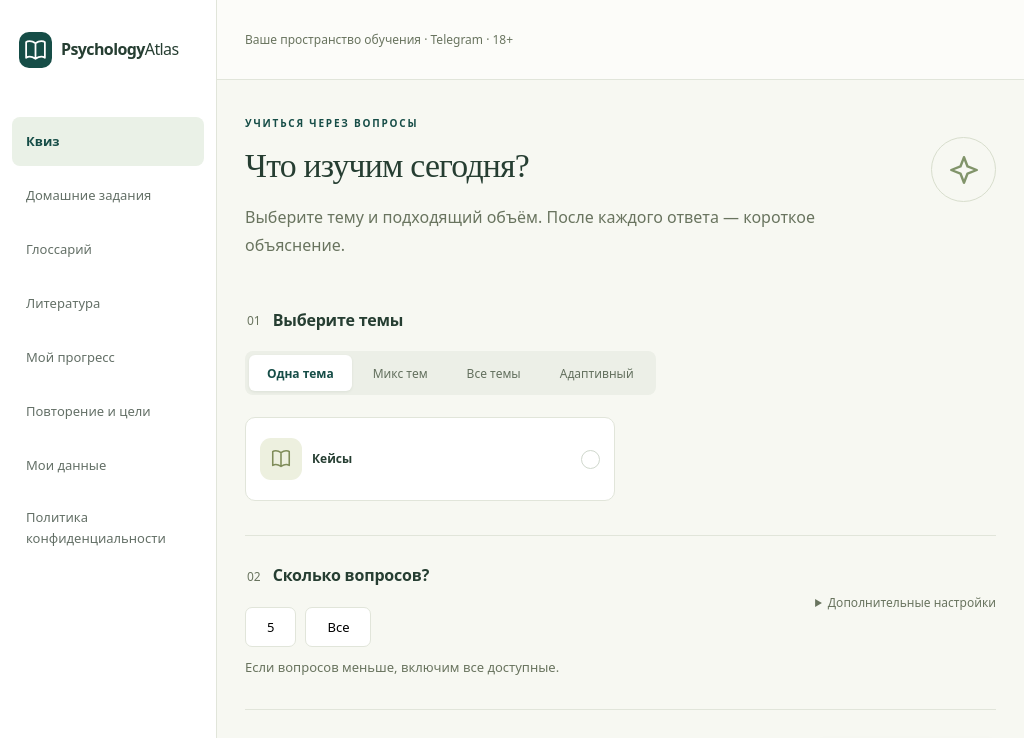
Scenario: verified Telegram actor can open review, glossary and literature without PWA e-mail
This screenshot has width=1024, height=738.
Expected: the heading "Что изучим сегодня?" is shown, [245,147,529,184]
Click the button "Повторение и цели": (108, 412) [12,387,204,436]
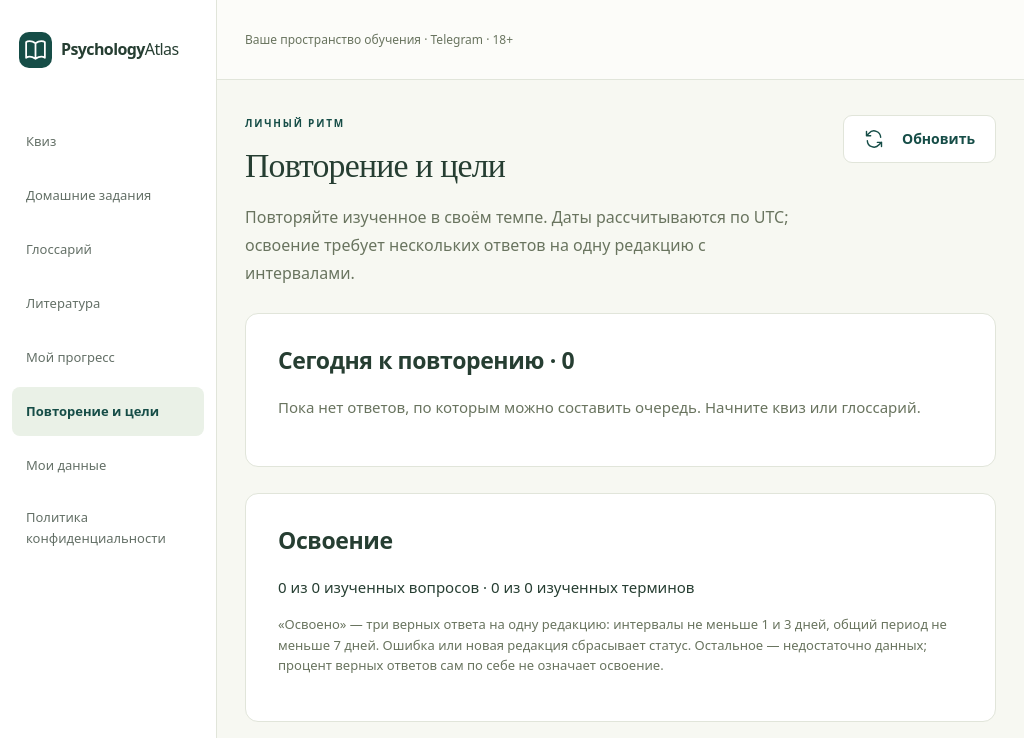
Now the heading "Повторение и цели" is shown, box [245,146,505,186]
Now the text "Пока нет ответов" is shown, box [278,397,921,417]
Click the button "Глоссарий": (108, 250) [12,225,204,274]
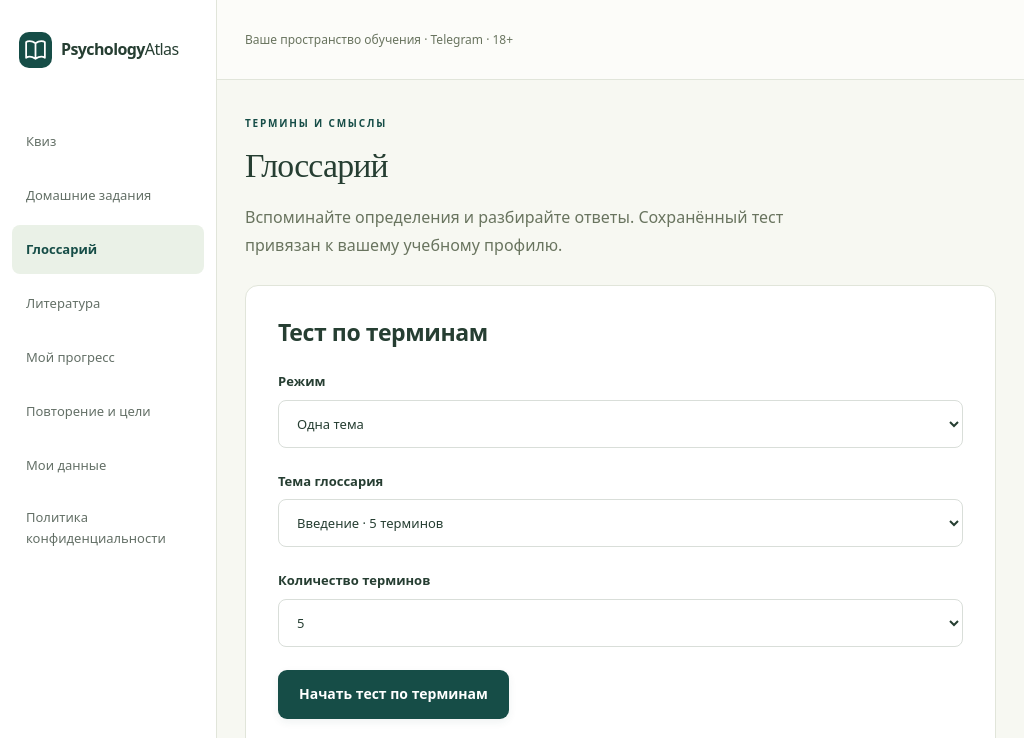
Now the heading "Глоссарий" is shown, box [245,147,388,184]
Click the button "Литература": (108, 304) [12,279,204,328]
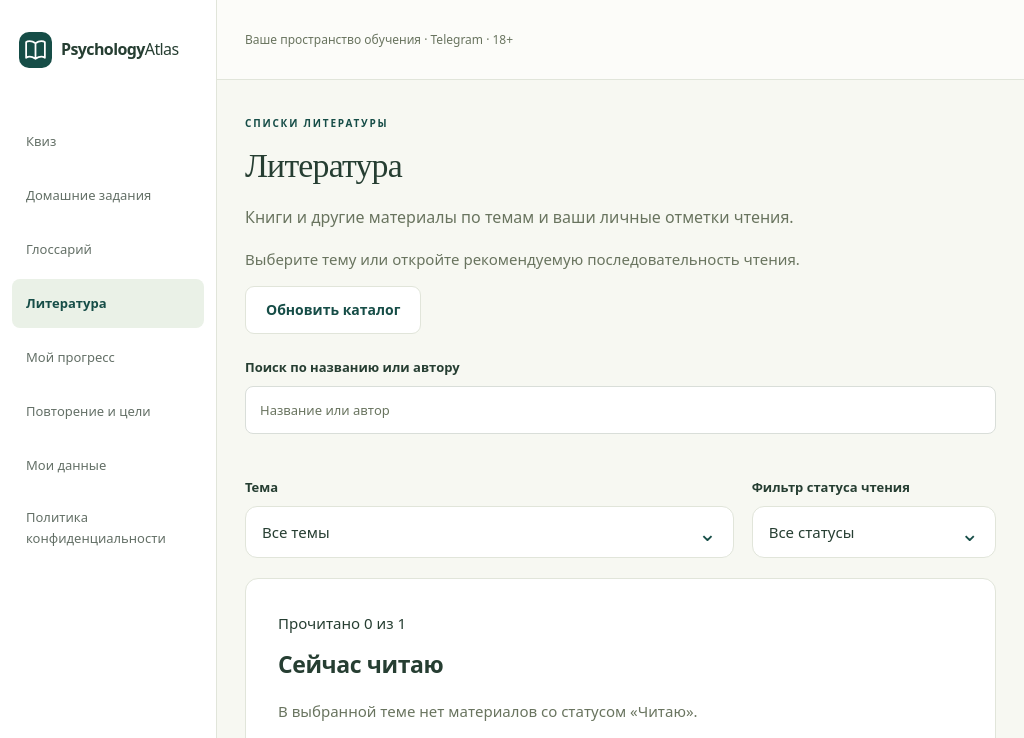
Now the heading "Литература" is shown, box [245,147,402,184]
Click the button "Мой прогресс": (108, 358) [12,333,204,382]
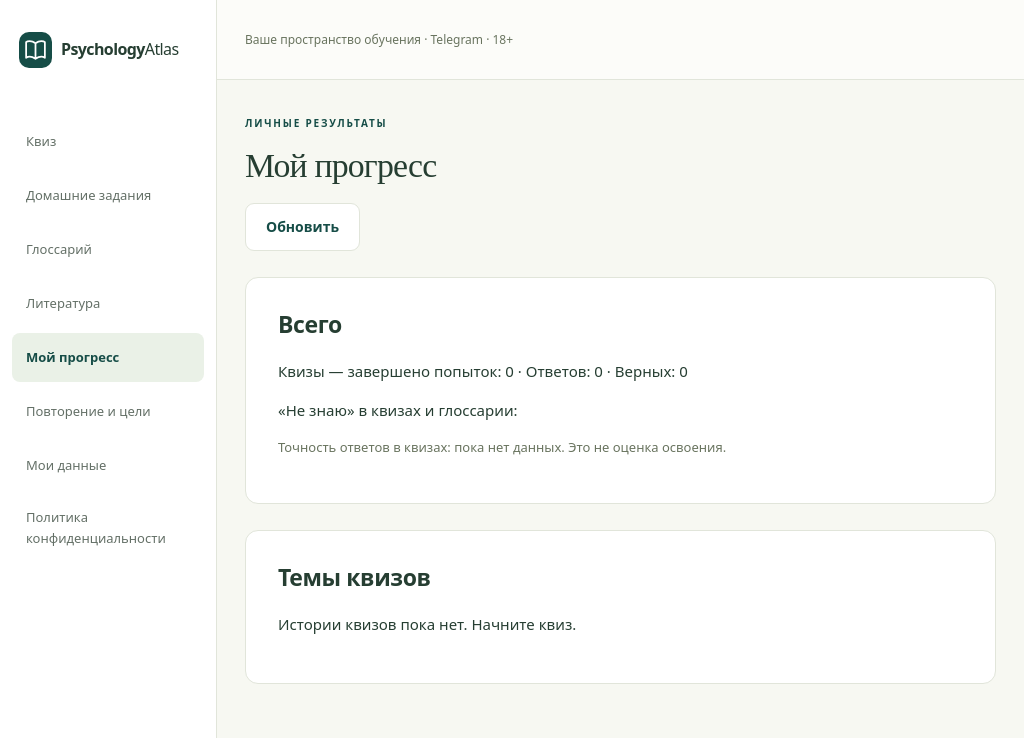
Now the heading "Мой прогресс" is shown, box [245,147,436,184]
Now the text "Истории квизов пока нет. Начните квиз." is shown, box [278,614,576,634]
Click the button "Литература": (108, 304) [12,279,204,328]
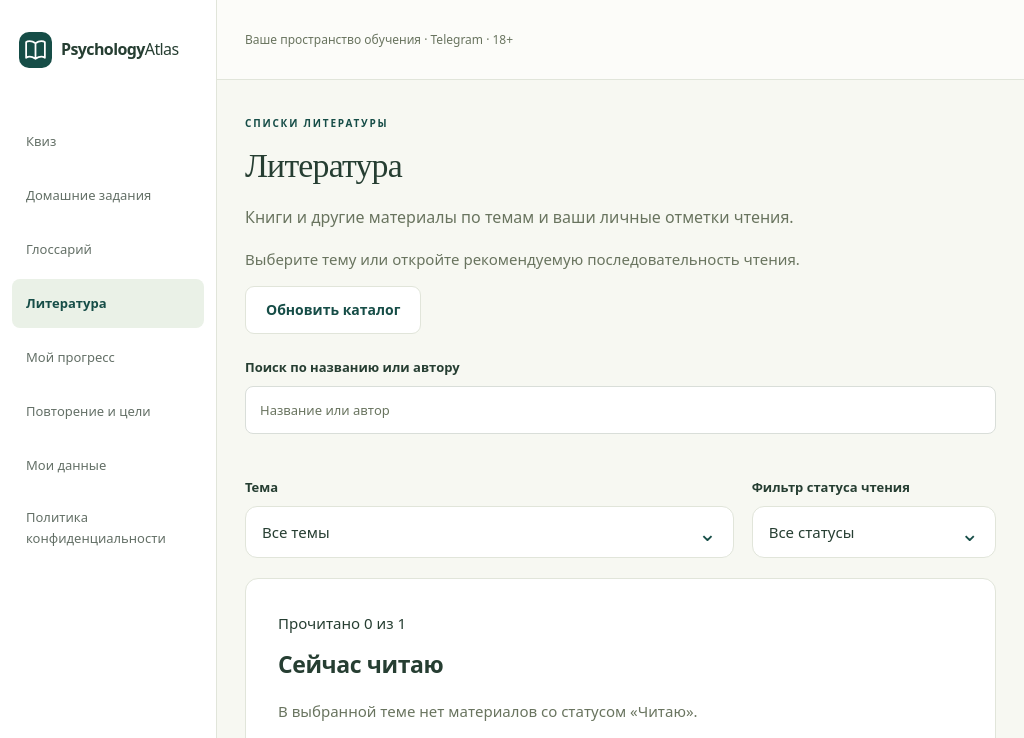
Now the heading "Литература" is shown, box [245,147,402,184]
